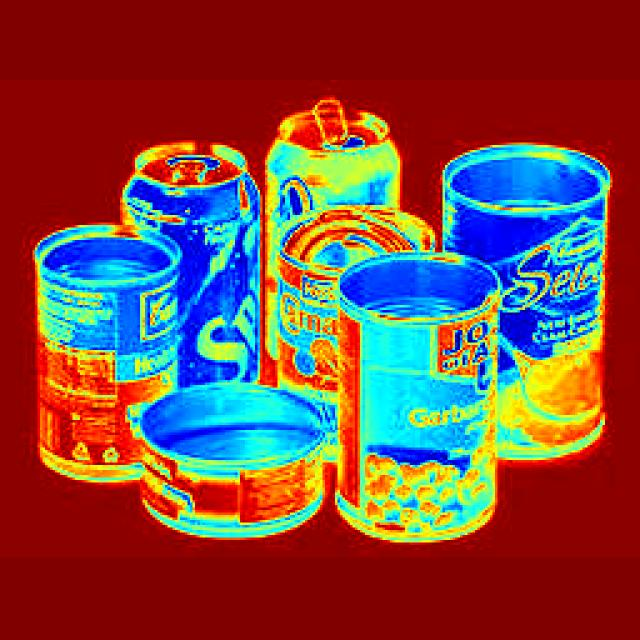Aluminium Food Cans: (455, 141, 622, 496), (338, 262, 508, 550), (17, 221, 178, 487), (130, 363, 333, 556), (120, 142, 264, 374), (279, 177, 381, 370), (279, 68, 399, 207)
